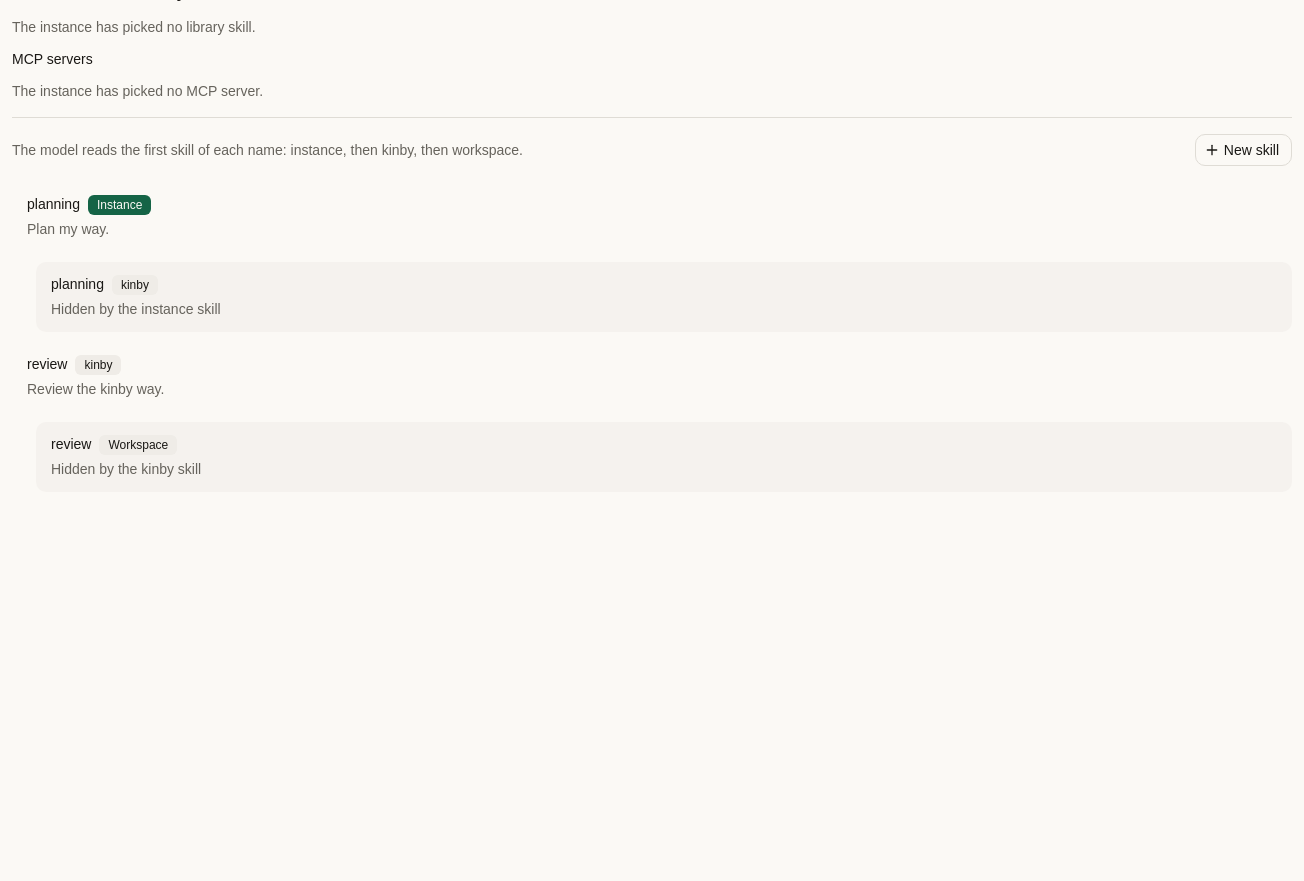
Test: SkillsSection › edits an instance skill with the hash it read
Click the button with aria-label "planning, instance skill" at (53, 204), box [12,182,1292,252]
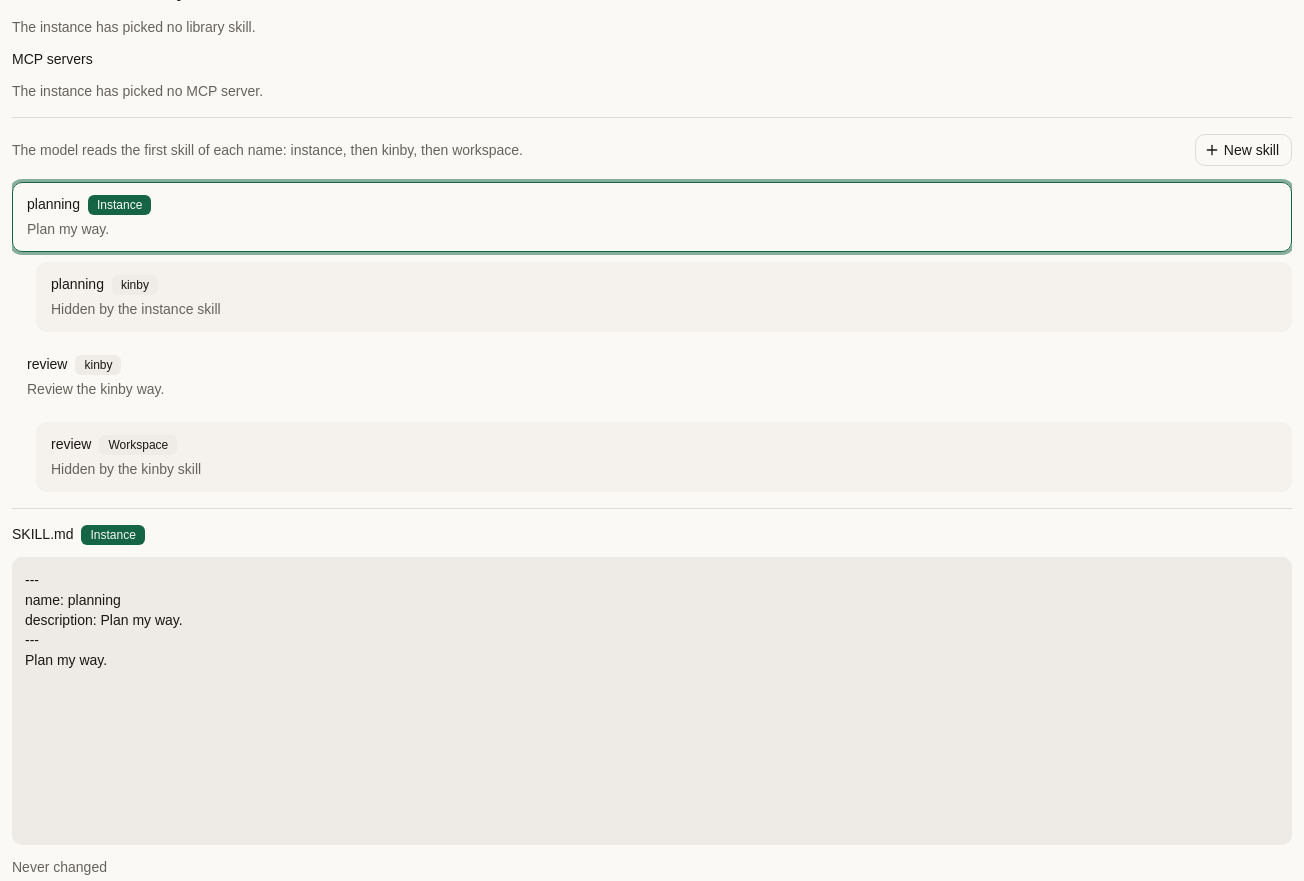
Type "Step by step." into the text box labelled "SKILL.md" at (652, 701), box [12,557,1292,845]
(page scrolled)
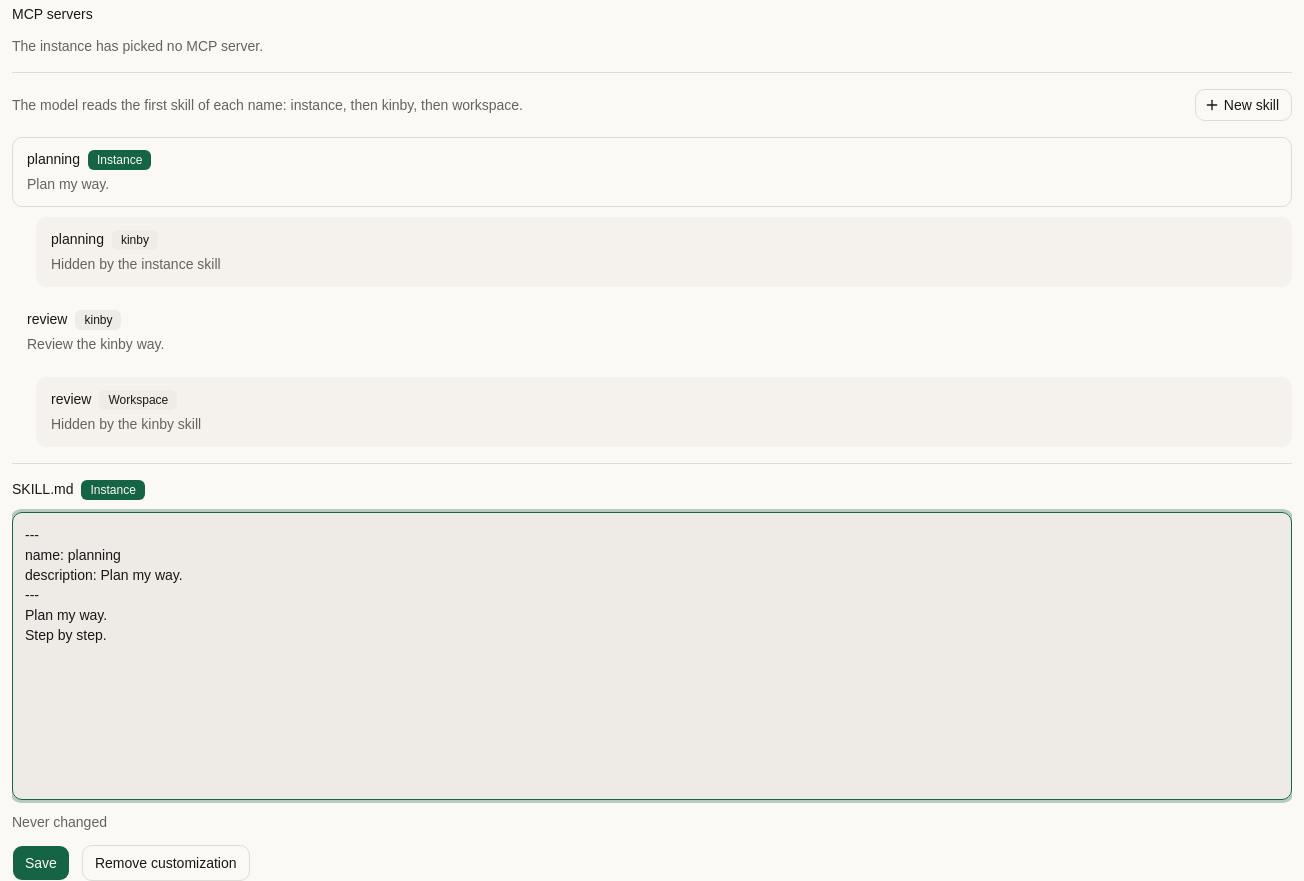
Click the button "Save" at (41, 863), box [12,845,70,880]
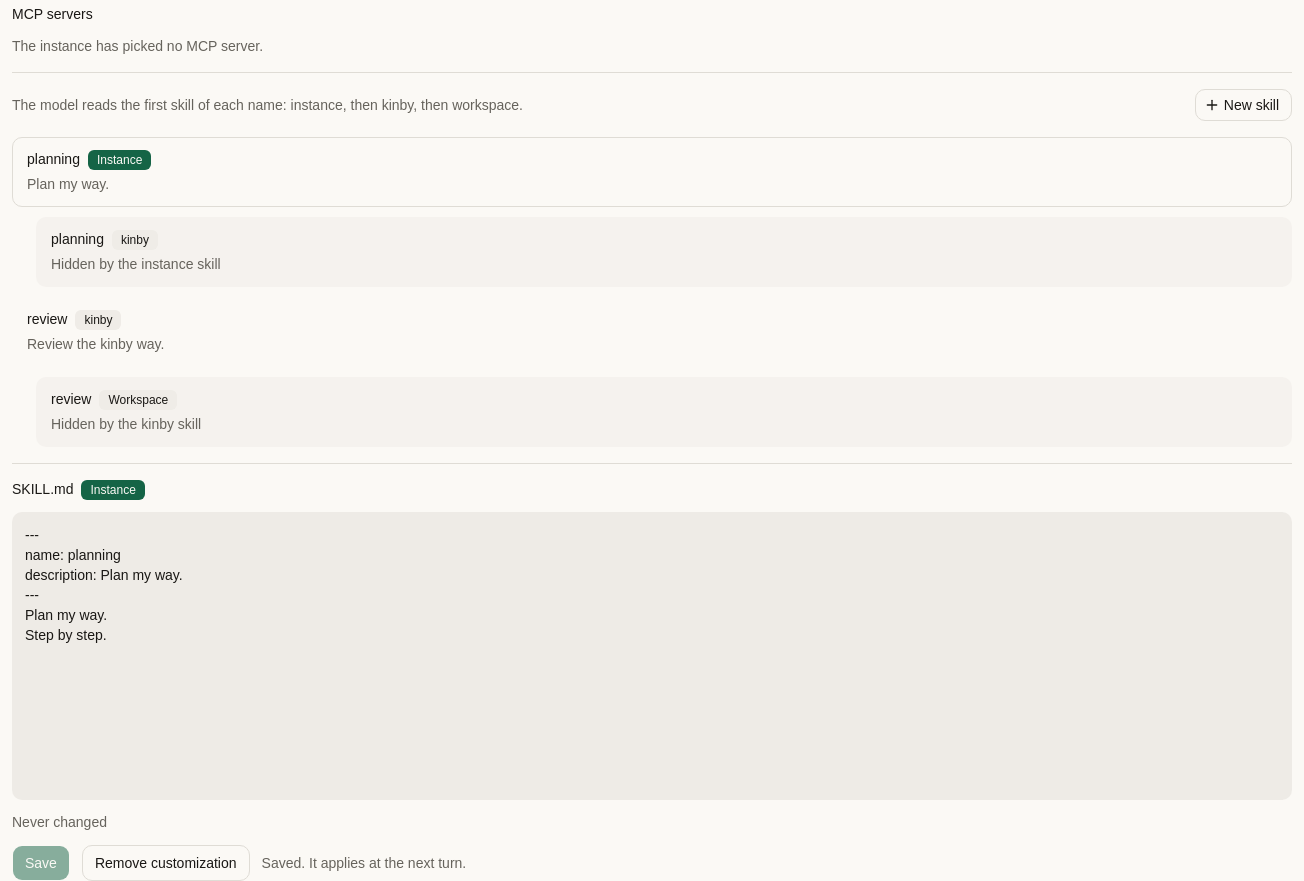
Expected: the text "Saved. It applies at the next turn." is shown, [262,853,466,873]
